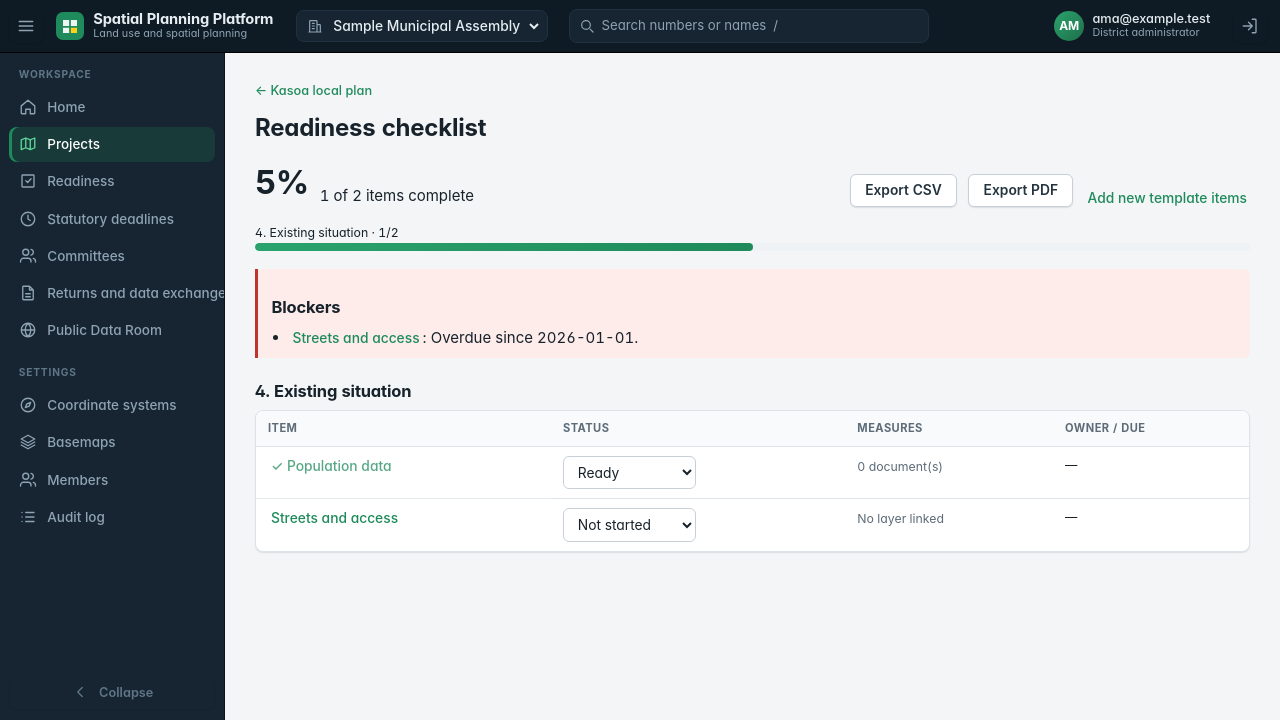
Test case: checklist page › changes an item's status and explains a refusal
Select "Ready" in the dropdown named "Status of Streets and access". click: (629, 525)
box: 563,508 -> 696,542
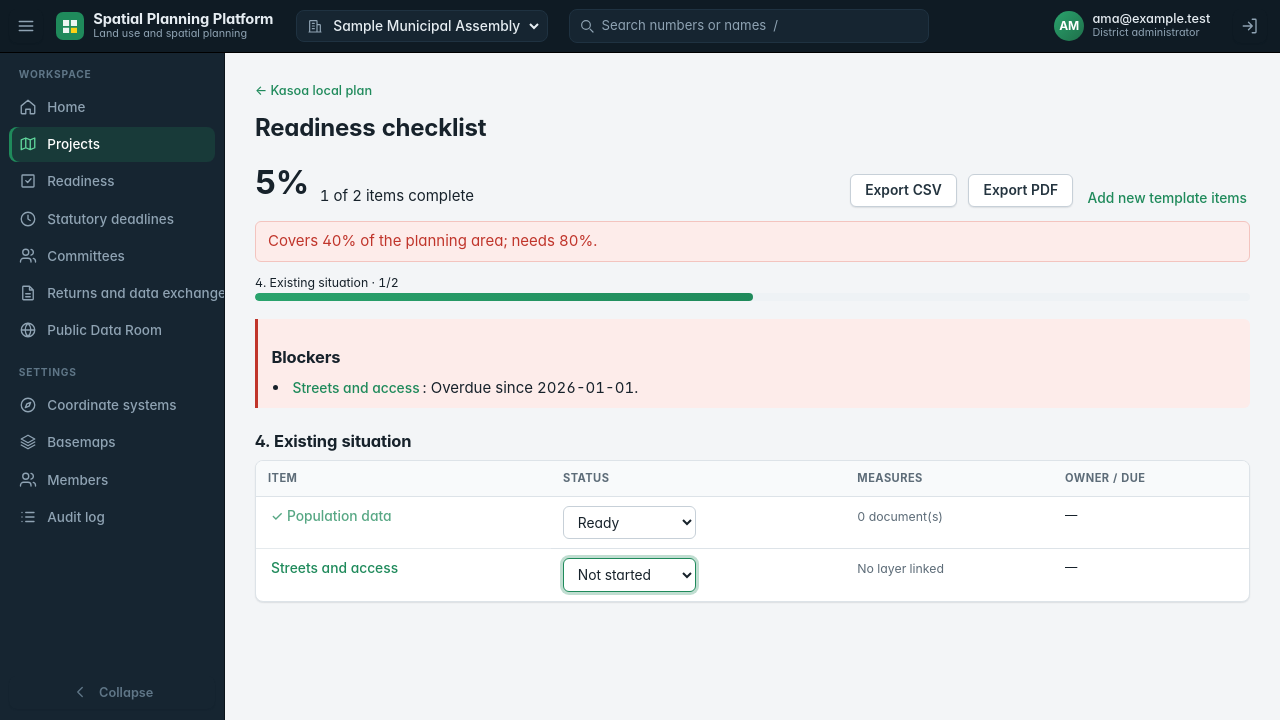
Expected: the text "Covers 40% of the planning area; needs 80%." is shown, 255,220 -> 1250,262
